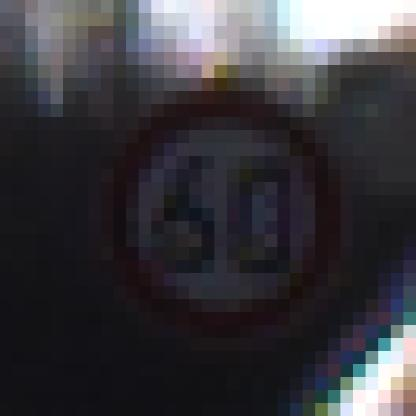Speed Limit 60: (108, 95, 338, 333)
